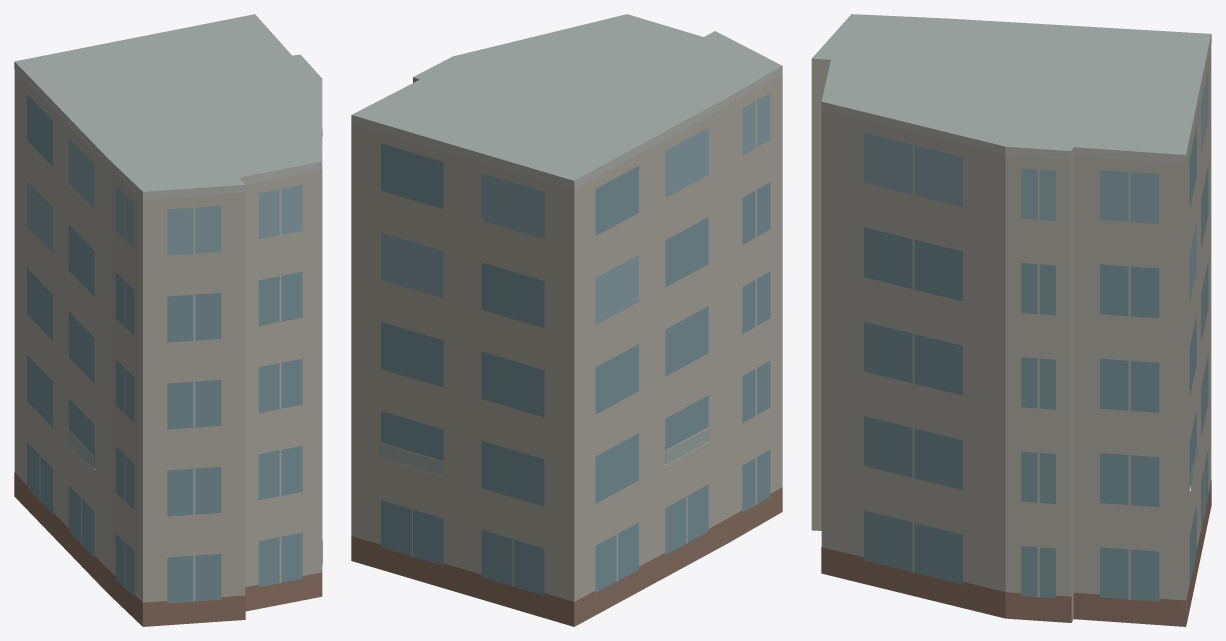
File: survey-upis-33018906.glb
3 views of the same model, side by side, from view 1: azimuth 30°, elevation 25°; view 2: azimuth 150°, elevation 25°; view 3: azimuth 270°, elevation 25° (orthographic). The views are drawn at different scales.
Parts seen in each view (by area): view 1: survey-upis-33018906.tmp; view 2: survey-upis-33018906.tmp; view 3: survey-upis-33018906.tmp.
Part boxes in pixels (x1=…): survey-upis-33018906.tmp: x1=14, y1=14, x2=322, y2=626; survey-upis-33018906.tmp: x1=351, y1=14, x2=782, y2=626; survey-upis-33018906.tmp: x1=811, y1=14, x2=1211, y2=626.
Bounding box in the file's own units: 8.44 × 13.15 × 10.11.
